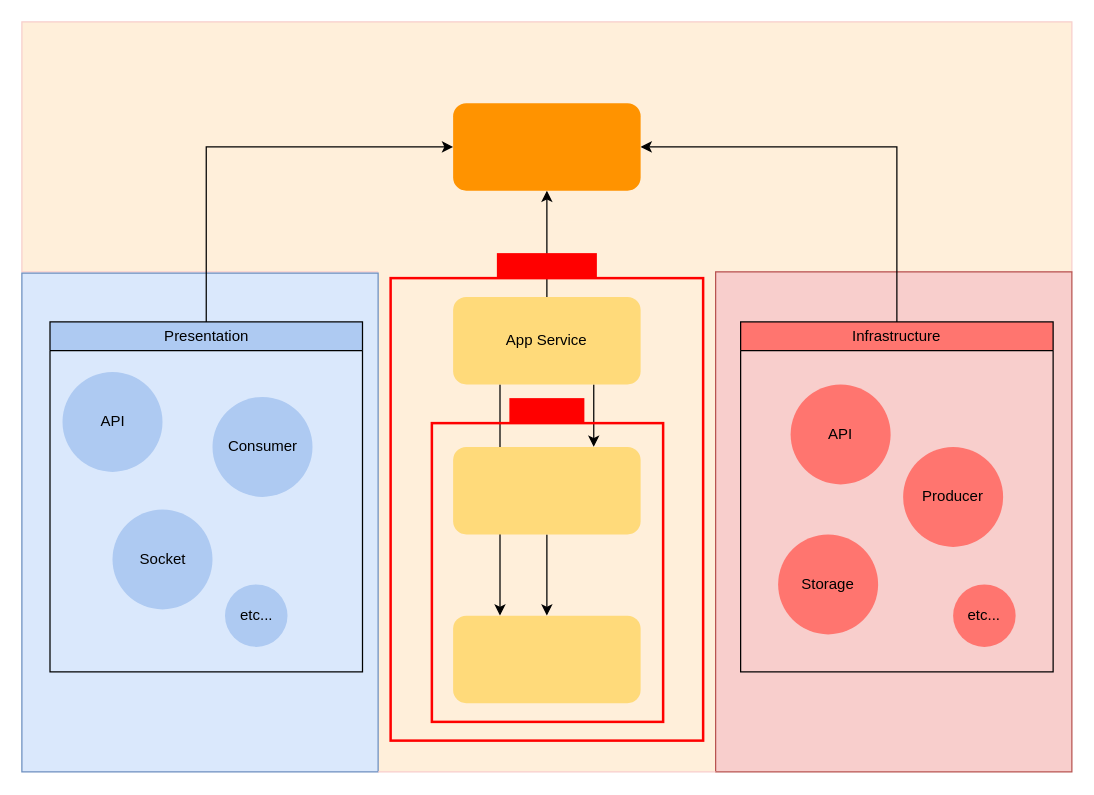
Some shapes in this 1094 by 795 pixel diagram are drawn without their labels. The centre of each missing label's shape, as x and y in pixels:
"App core" goes at [546,265].
"Domain" goes at [546,410].
"Domain Service" goes at [546,490].
"Model" goes at [546,658].
"Port" goes at [546,146].
